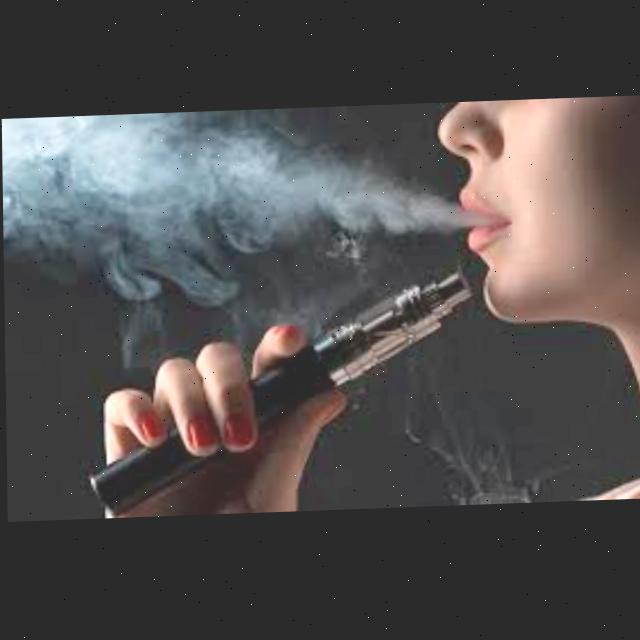vape: (84, 270, 476, 520)
